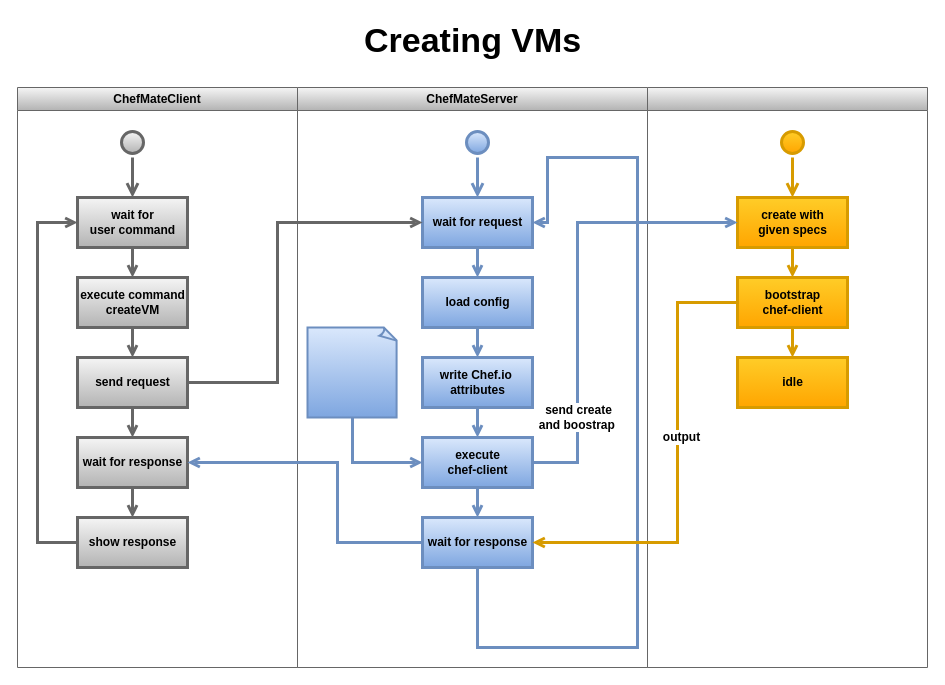
Image size: 945x685. Some labels were removed from this diagram. The box of each missing label's shape, as (x1, y1, x2, y2) in pixels:
cookbook for provisioning (cb-chefmate): (306, 326, 398, 418)
Node (hosted on AWS): (646, 86, 928, 668)
